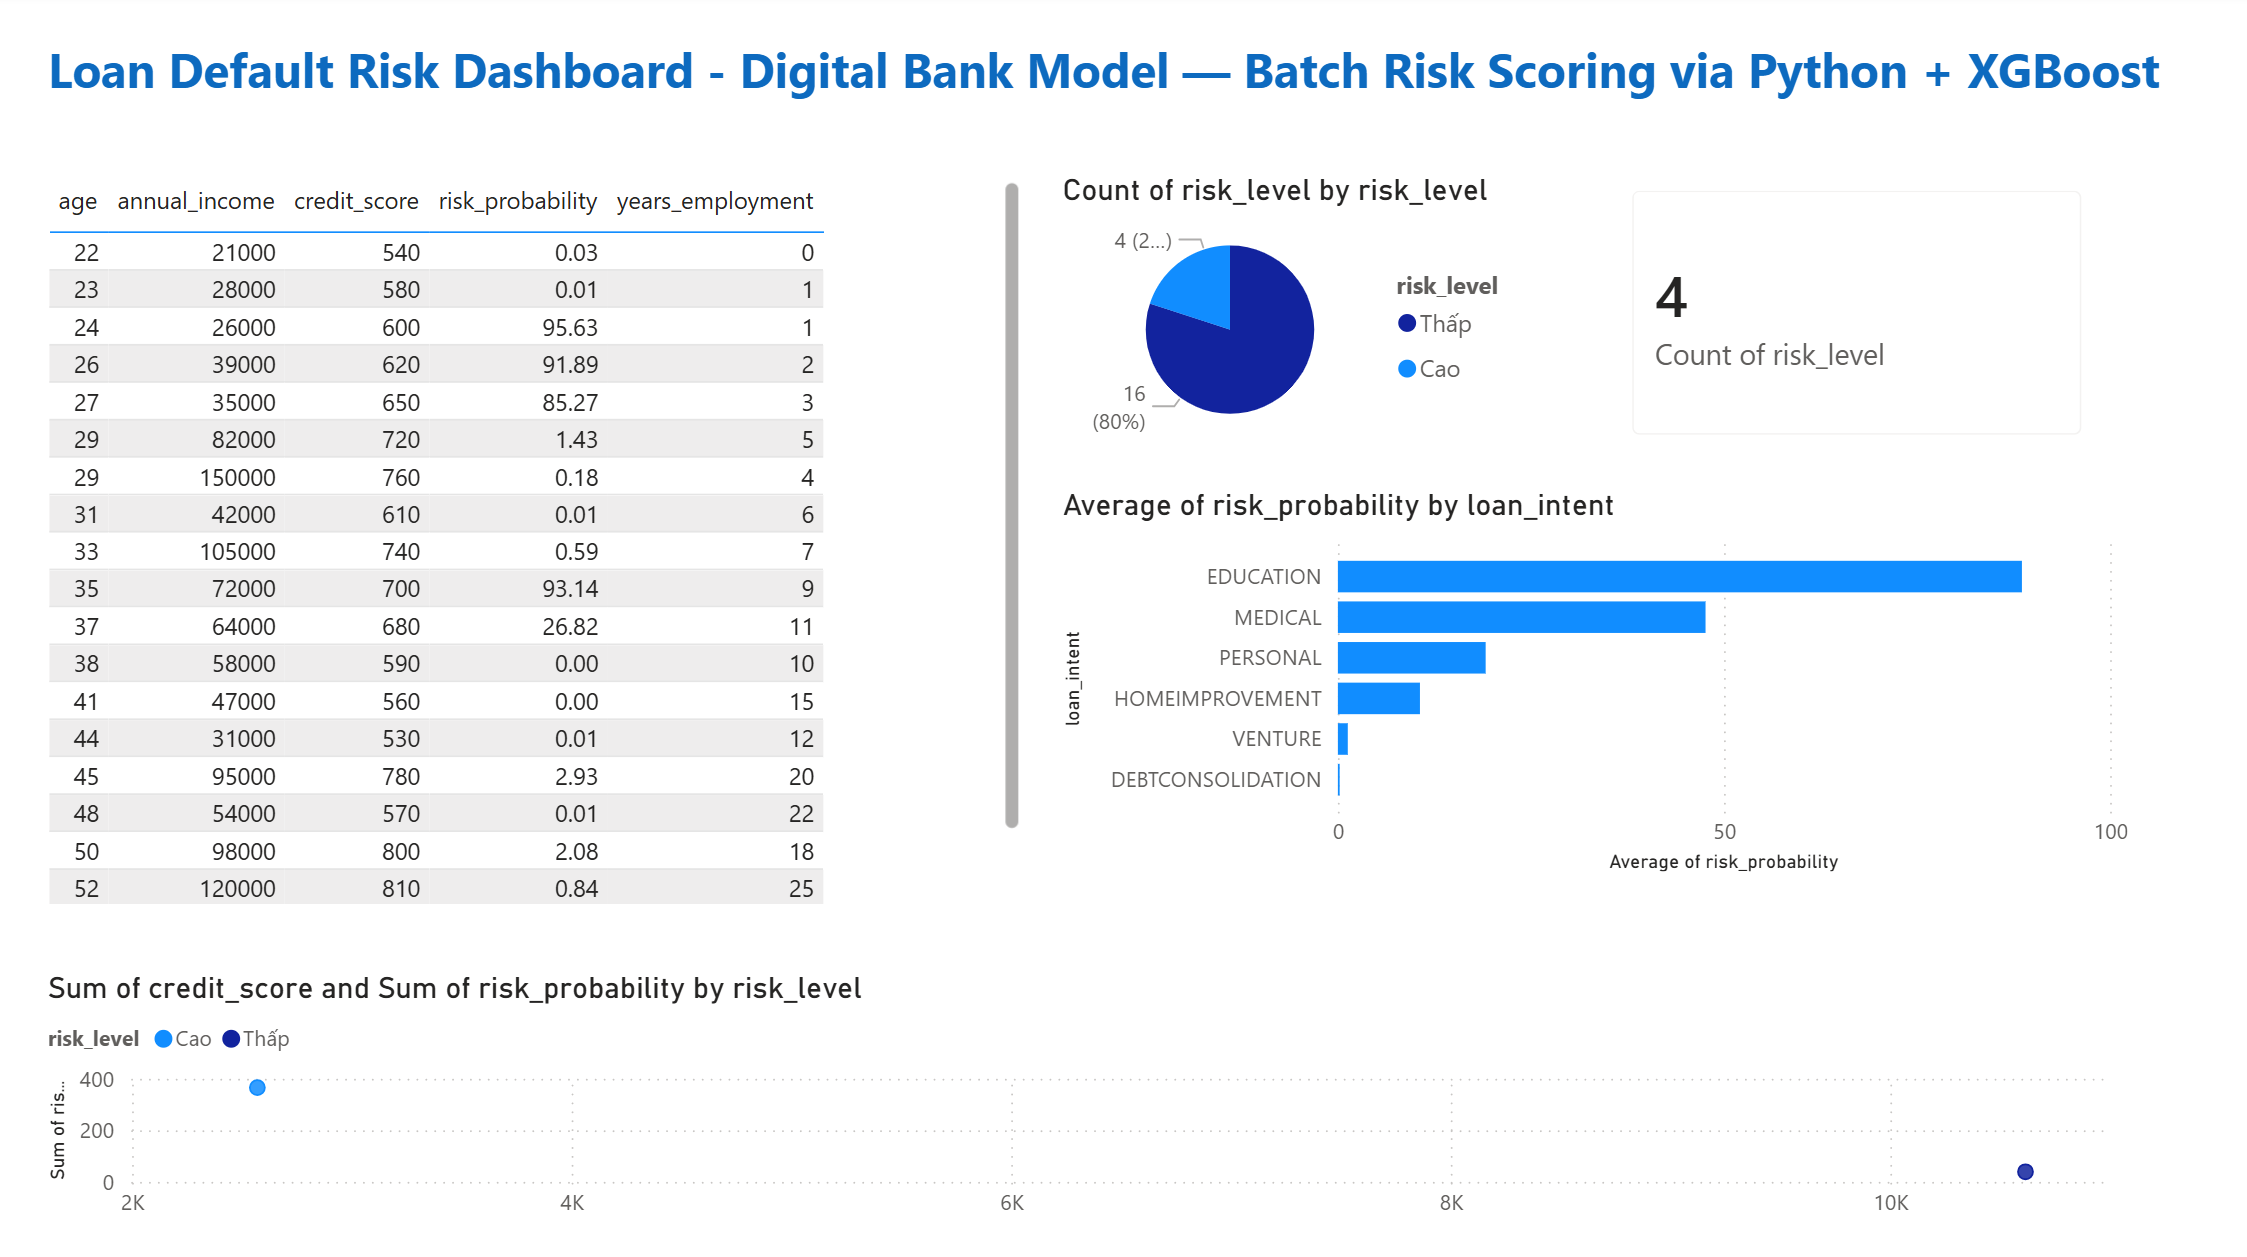

What the dashboard file says about the page in this screenshot:
{"tool":"powerbi","page":{"name":"Page 1","canvas":[1280,720],"ordinal":0},"visuals":[{"type":"tableEx","fields":{"Values":["sample_customers.age","sample_customers.annual_income","sample_customers.credit_score","sample_customers.risk_probability","sample_customers.years_employment"]},"box":[30.8,102.3,555.2,415],"z":0},{"type":"pieChart","fields":{"Category":["sample_customers.risk_level"],"Y":["CountNonNull(sample_customers.risk_level)"]},"box":[600,102.3,272,157],"z":1000},{"type":"cardVisual","fields":{"Data":["CountNonNull(sample_customers.risk_level)"]},"box":[907.1,95.3,286,171],"z":2000},{"type":"clusteredBarChart","fields":{"Category":["sample_customers.loan_intent"],"Y":["Avg(sample_customers.risk_probability)"]},"box":[600,279,607.1,220.1],"z":3000},{"type":"scatterChart","fields":{"X":["Sum(sample_customers.credit_score)"],"Y":["Sum(sample_customers.risk_probability)"],"Series":["sample_customers.risk_level"]},"box":[30.8,549.6,1176.3,148.6],"z":4000},{"type":"textbox","box":[30.8,21,1216.9,56.1],"z":5000}]}

Visuals, with their boxes in screenshot pixels (x1, y1, x2, y2), scaled from the page's 1280x720 canvas onto the 2247x1257 screenshot:
tableEx - sample_customers.age x sample_customers.annual_income: 54,179,1029,903
pieChart - sample_customers.risk_level x CountNonNull(sample_customers.risk_level): 1053,179,1531,453
cardVisual - CountNonNull(sample_customers.risk_level): 1592,166,2094,465
clusteredBarChart - sample_customers.loan_intent x Avg(sample_customers.risk_probability): 1053,487,2119,871
scatterChart - Sum(sample_customers.credit_score) x Sum(sample_customers.risk_probability): 54,960,2119,1219
textbox: 54,37,2190,135
